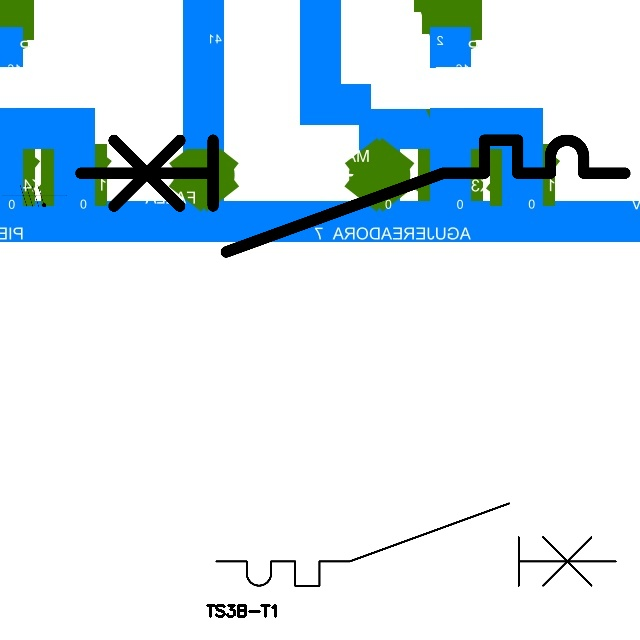interruptor_termomagnetico: (66, 126, 638, 266), (206, 493, 626, 596)
